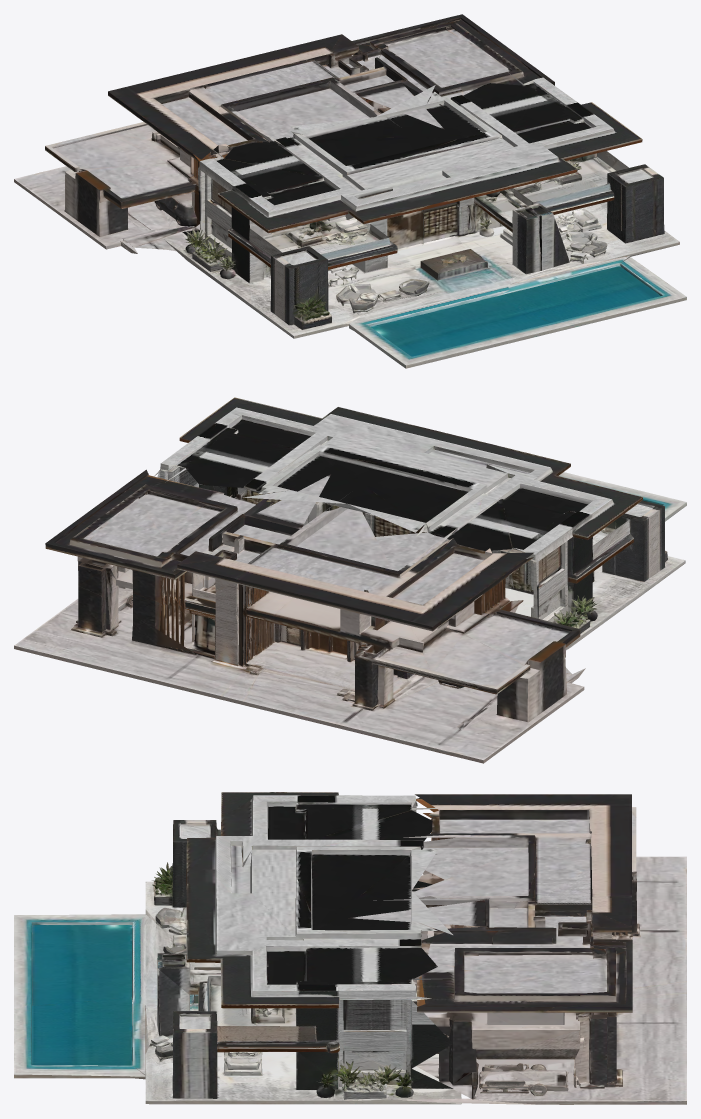
The model's file is margaux-photo.glb.
The picture shows the model from 3 angles, top to bottom: view 1: azimuth 30°, elevation 25°; view 2: azimuth 150°, elevation 25°; view 3: azimuth 270°, elevation 25°; orthographic projection. The views are drawn at different scales.
Visible parts, largest first — view 1: Mesh_0; view 2: Mesh_0; view 3: Mesh_0.
Part boxes in pixels (box(x1,y1,x2,y2)): Mesh_0: box(14, 14, 686, 368); Mesh_0: box(14, 397, 686, 763); Mesh_0: box(14, 792, 686, 1104).
Bounding box in the file's own units: 38.89 × 7.9 × 44.16.
2 materials, 2 textured.
